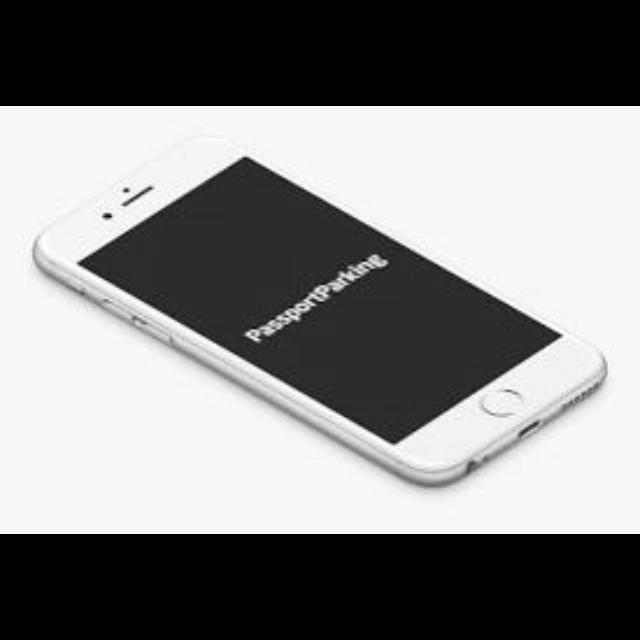fake: (44, 152, 598, 512)
